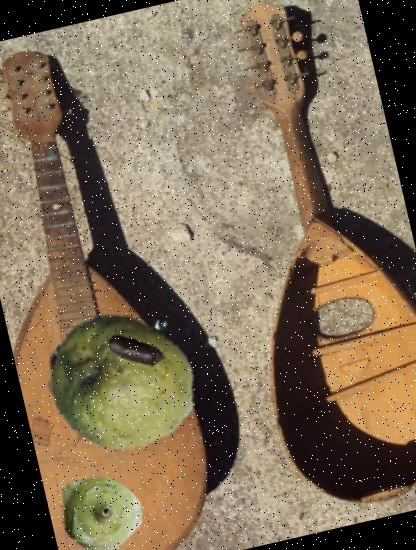Eggplant: (98, 312, 174, 389)
Kohlrabi: (47, 458, 151, 550)
Limes: (36, 290, 212, 467)
